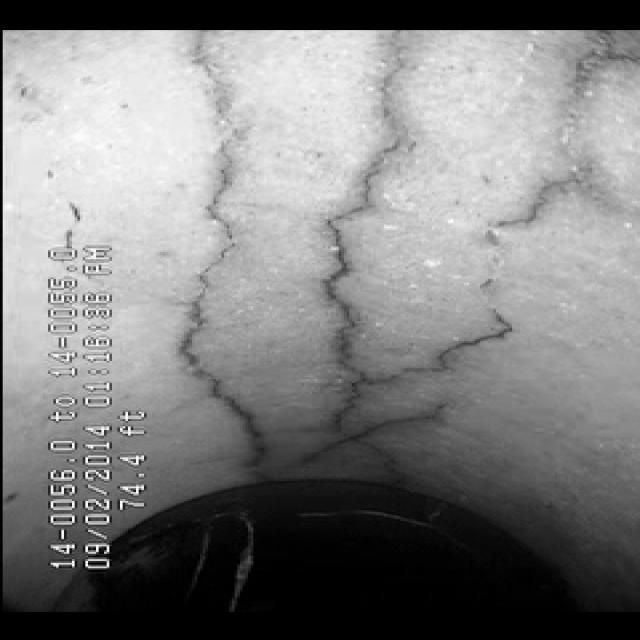Crack: (140, 80, 554, 416)
